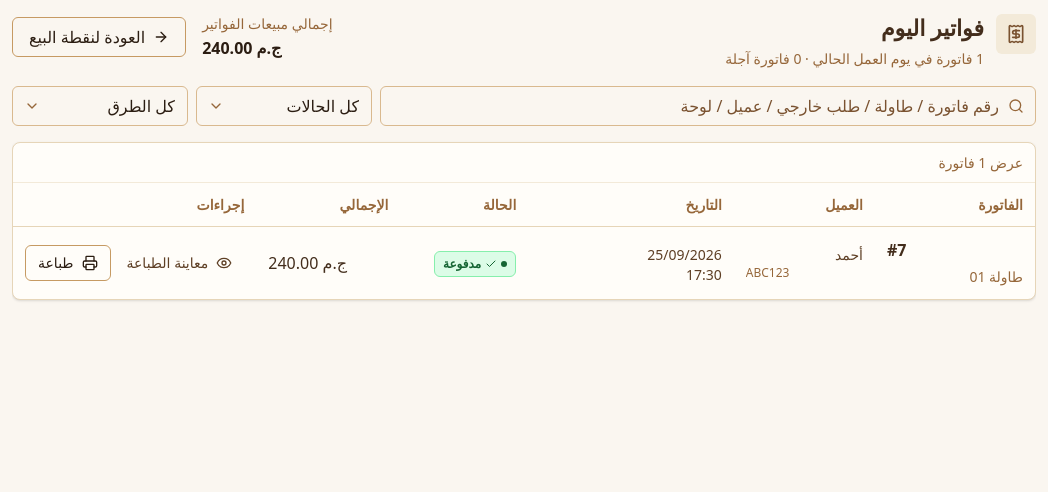
Scenario: Today invoices page › distinguishes "no invoices" from "no results for this search"
The width and height of the screenshot is (1048, 492).
Expected: the text "#7" is shown, [887,239,906,261]
Step 1. Type "لا-يوجد" into the search field named "البحث في الفواتير" → x=708, y=106, box [380,86,1036,126]
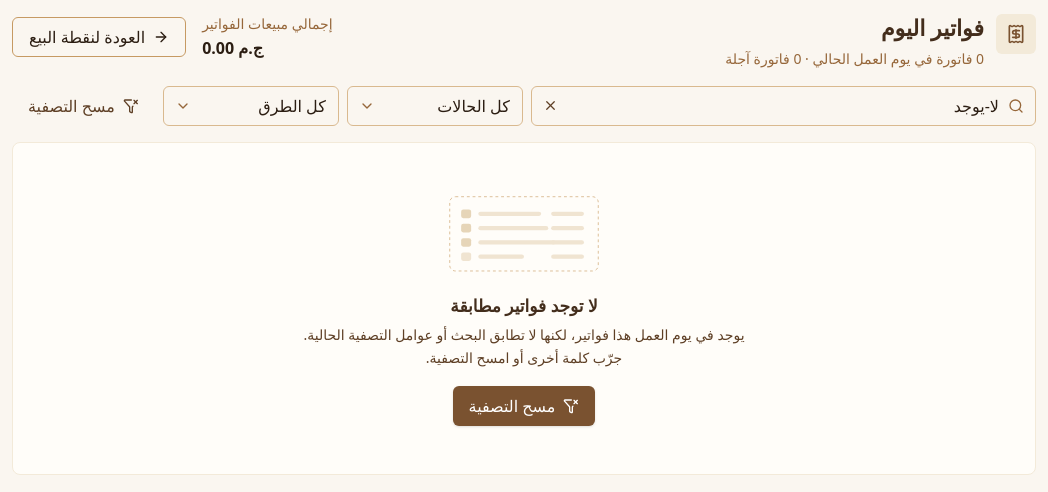
Expected: the heading "لا توجد فواتير مطابقة" is shown, [450,294,598,317]
Step 2. Click the button "مسح التصفية" below "لا توجد فواتير مطابقة" → x=524, y=406, box [453,386,596,426]
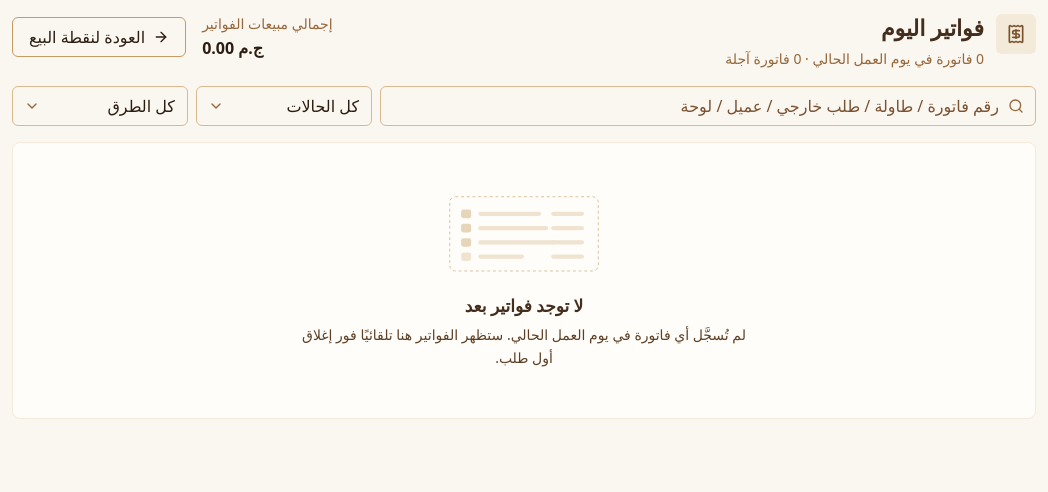
Expected: the heading "لا توجد فواتير مطابقة" is gone
